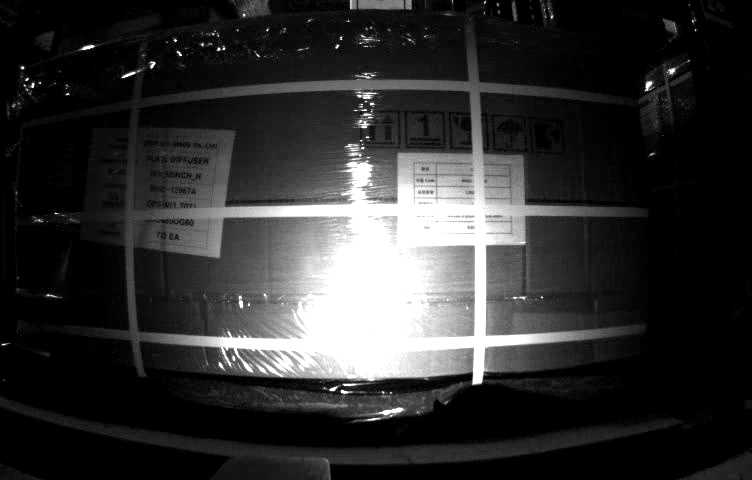True Barcode: (40, 142, 73, 181)
